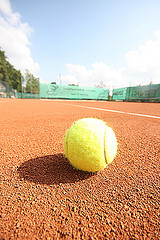tennis ball: (63, 117, 119, 173)
